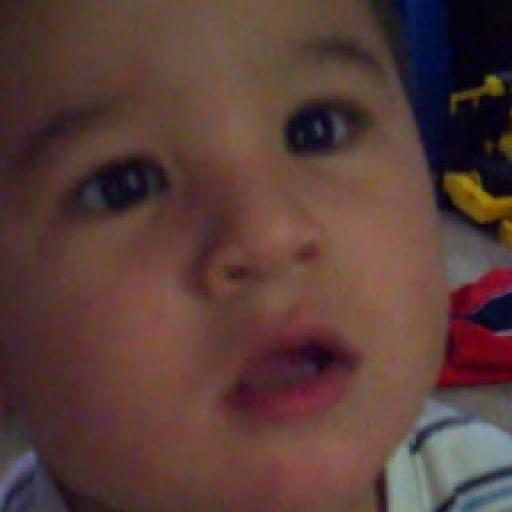Autism: (0, 0, 498, 512)
